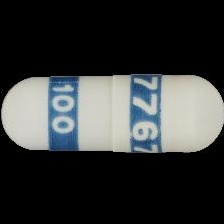55289-451: (0, 0, 224, 224)
